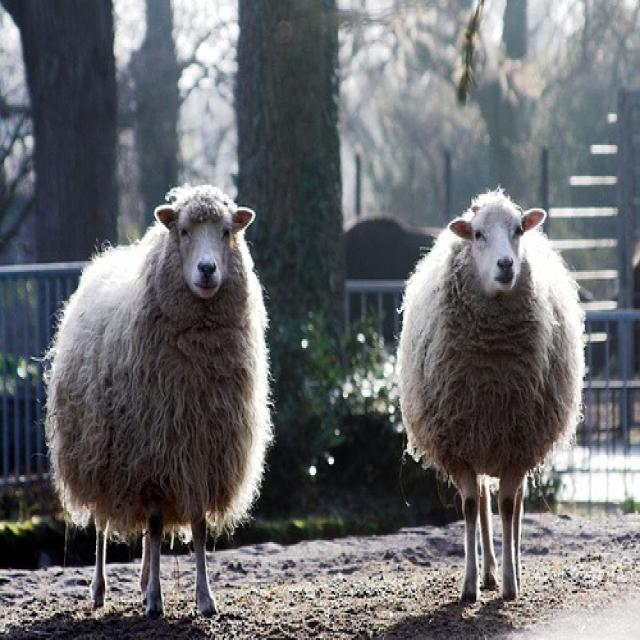sheep: (37, 182, 276, 621), (395, 189, 589, 603)
